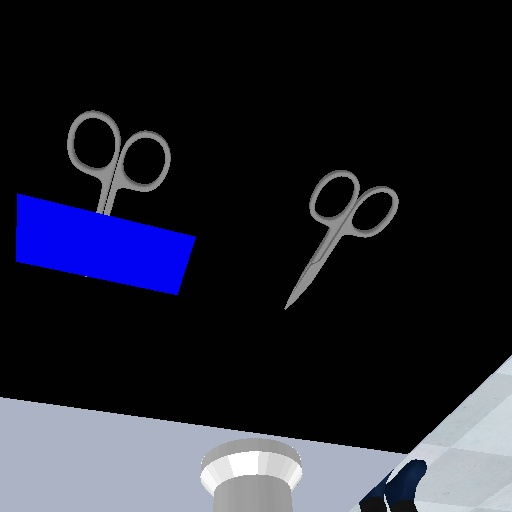tijera: (279, 165, 404, 313), (59, 103, 178, 218)
